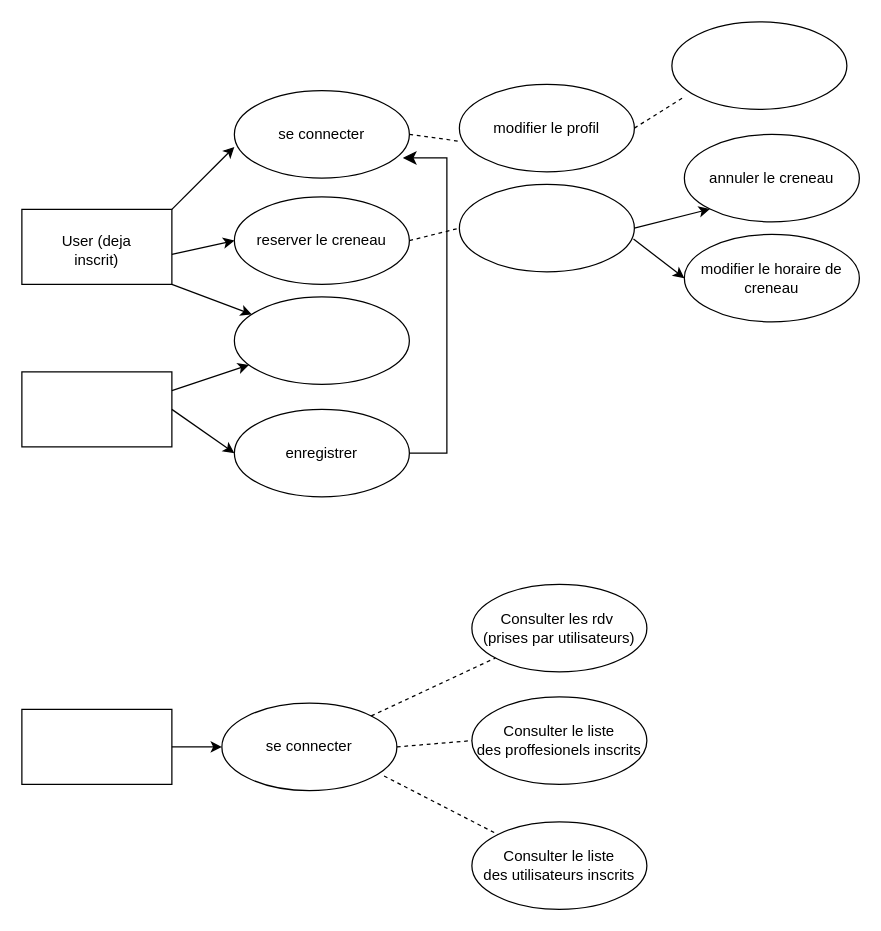
This 881x931 diagram has some shape labels left out. Each missing label, with the box of its shape:
Admin: (21, 708, 172, 784)
gerer le creneau: (458, 183, 634, 272)
regarder le proffesionels: (233, 296, 409, 384)
supprimer le profil: (671, 21, 847, 109)
User (non-inscrir): (21, 371, 172, 447)
